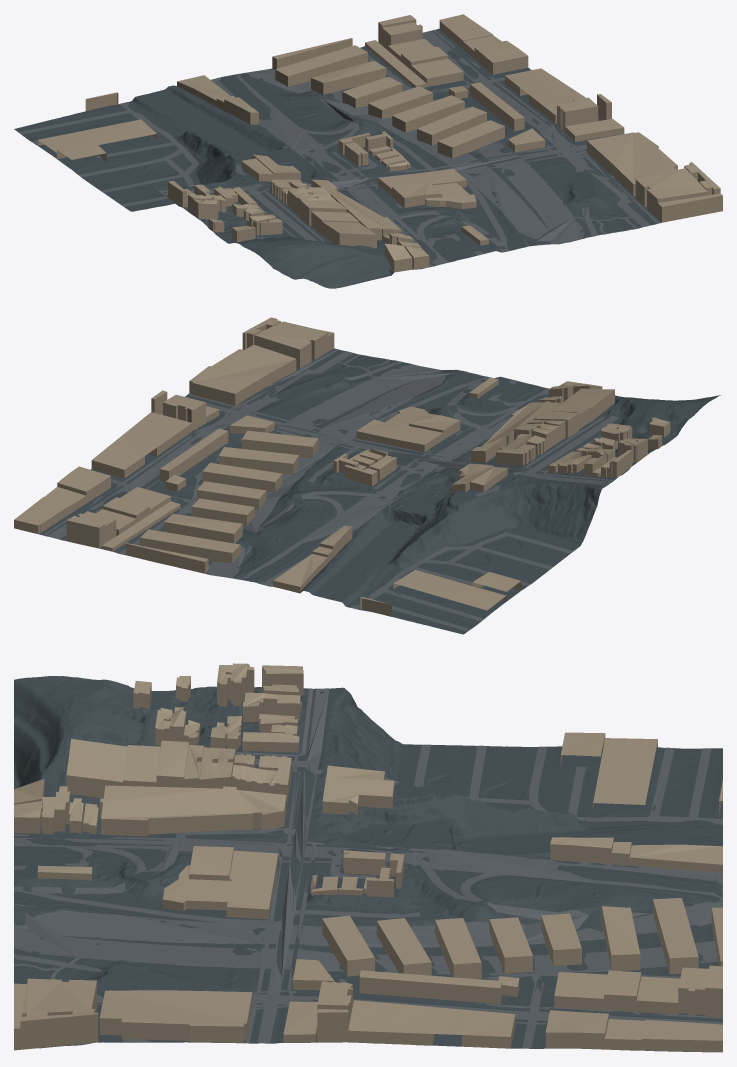
Rendered from epsg26910-1441-10881.lod0.glb.
The picture shows the model from 3 angles, top to bottom: view 1: azimuth 30°, elevation 25°; view 2: azimuth 150°, elevation 25°; view 3: azimuth 270°, elevation 25°; orthographic projection. The views are drawn at different scales.
Parts seen in each view (by area): view 1: epsg26910-1441-10881-lod0; view 2: epsg26910-1441-10881-lod0; view 3: epsg26910-1441-10881-lod0.
Boxes of the visible parts, box(x1,y1,x2,y2) form: epsg26910-1441-10881-lod0: box(14, 14, 722, 288); epsg26910-1441-10881-lod0: box(14, 317, 720, 634); epsg26910-1441-10881-lod0: box(14, 663, 722, 1052).
Bounding box in the file's own units: 384 × 53.6 × 384.
